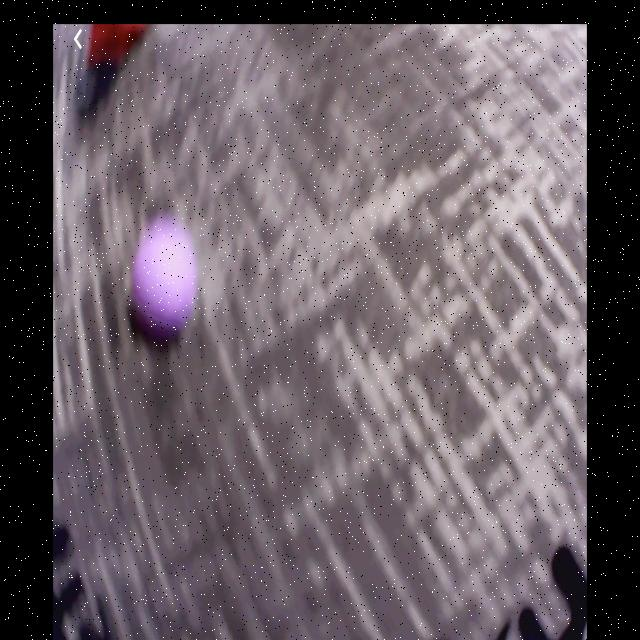ball: (131, 225, 195, 333)
